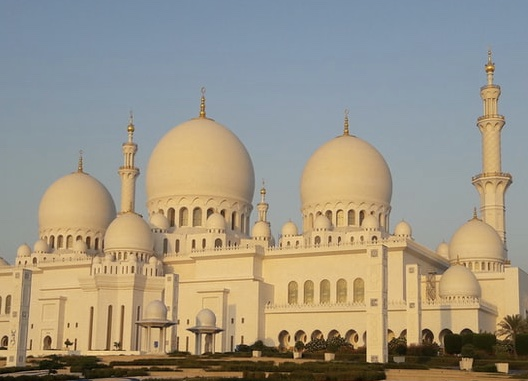Mosque: (14, 55, 523, 353)
